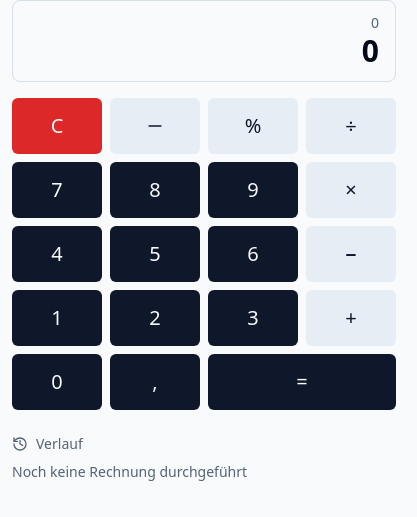
Test: Calculator — Ergebnis und Verlauf › legt nach einer Rechnung einen Verlauf-Eintrag an (7 + 6 = 13)
The image size is (417, 517).
Click the button "7" at (57, 190), box x1=12 y1=162 x2=102 y2=218
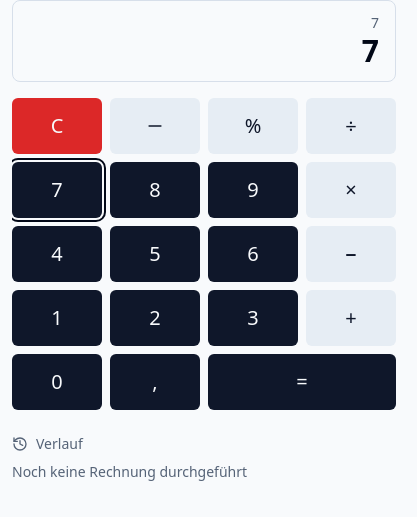
Click the button "+" at (351, 318), box x1=306 y1=290 x2=396 y2=346
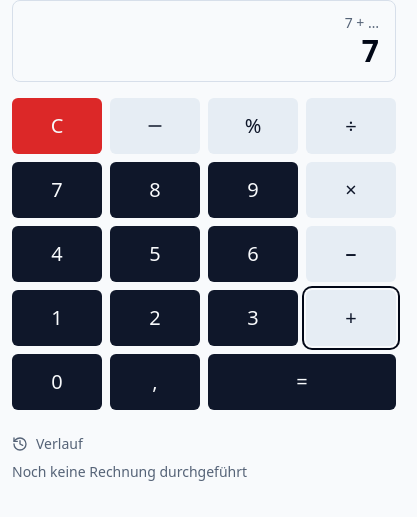
Click the button "6" at (253, 254), box x1=208 y1=226 x2=298 y2=282
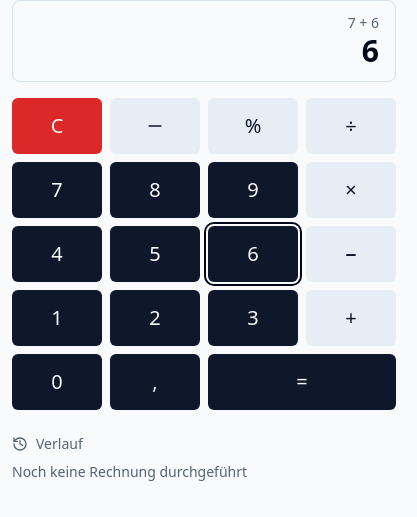
Click the button named "Gleich" at (302, 382), box x1=208 y1=354 x2=396 y2=410
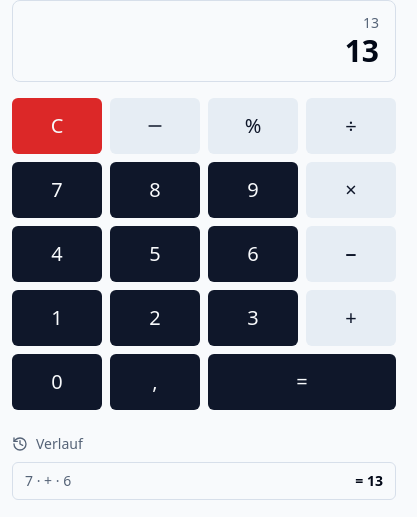
Check: the 2nd text "13" is shown, box x1=345 y1=30 x2=379 y2=71
Check: the text "= 13" is shown, box x1=355 y1=471 x2=383 y2=491
Check: the text "Noch keine Rechnung durchgeführt" is gone
